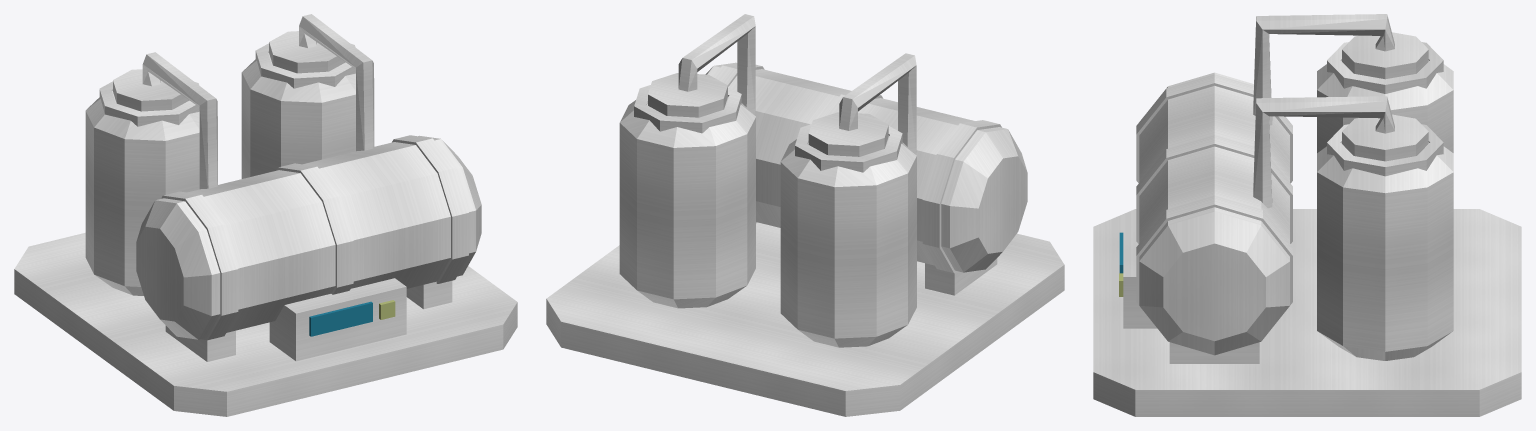
File: defoliator.obj
3 views of the same model, side by side, from view 1: azimuth 30°, elevation 25°; view 2: azimuth 150°, elevation 25°; view 3: azimuth 270°, elevation 25° (orthographic). The views are drawn at different scales.
Visible parts, largest first — view 1: defoliator; view 2: defoliator; view 3: defoliator.
Part boxes in pixels (box(x1,y1,x2,y2)): defoliator: box(14, 14, 517, 416); defoliator: box(546, 14, 1064, 416); defoliator: box(1093, 14, 1521, 416).
Bounding box in the file's own units: 2.86 × 1.98 × 2.86.
